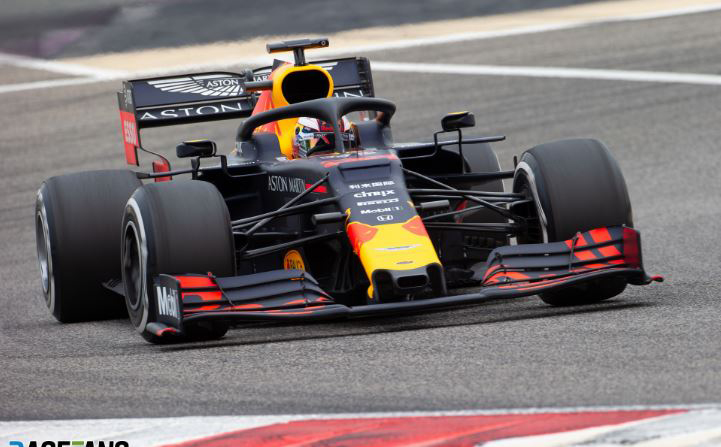F1 Car: (30, 29, 674, 346)
